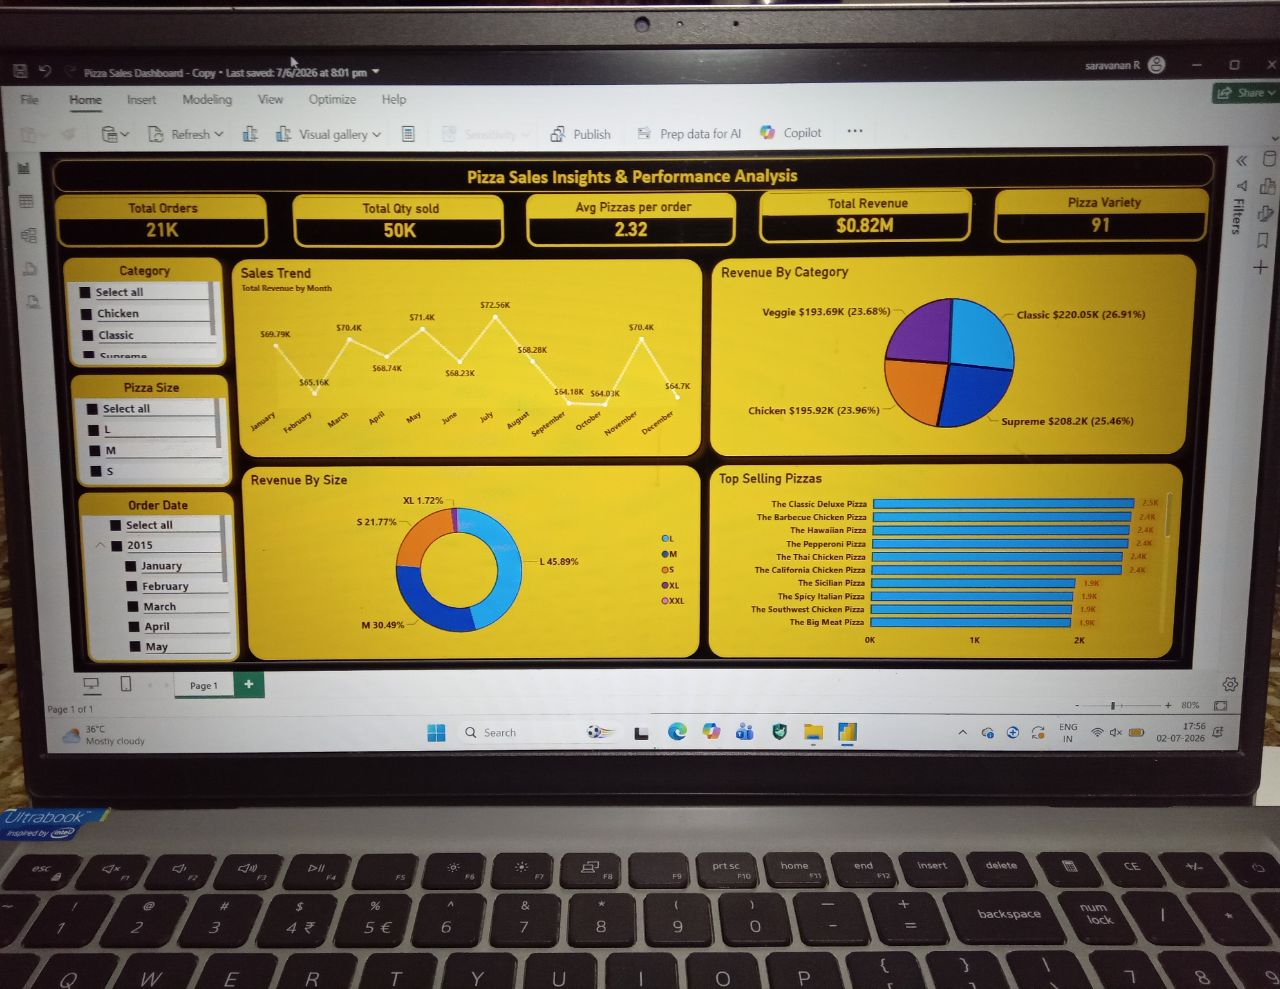

The dashboard page shown, as its layout file describes it:
{"tool":"powerbi","page":{"name":"Page 1","canvas":[1280,720],"ordinal":0},"visuals":[{"type":"textbox","title":"Pizza Sales Insights & Performance Analysis","box":[0,0,1280,47.5],"z":0},{"type":"card","title":"Total Orders","fields":{"Values":["order_details.Total Orders"]},"box":[0,46.9,271.6,79.6],"z":1000},{"type":"card","title":"Total Qty sold","fields":{"Values":["order_details.Total Quantity Sold"]},"box":[271.6,48.4,246,79.6],"z":2000},{"type":"card","title":"Total Revenue","fields":{"Values":["order_details.Total Revenue"]},"box":[776.5,49.8,260.3,78.2],"z":3000},{"type":"card","title":"Avg Pizzas per order","fields":{"Values":["order_details.Avg Items per Order"]},"box":[517.7,46.9,258.8,79.6],"z":4000},{"type":"card","title":"Pizza Variety","fields":{"Values":["order_details.Unique Pizzas Sold"]},"box":[1036.8,49.8,243.2,79.6],"z":5000},{"type":"slicer","title":"Category","fields":{"Values":["pizza_types.category"]},"box":[0,130,221.2,215],"z":6000},{"type":"slicer","title":"Pizza Size","fields":{"Values":["pizzas.size"]},"box":[0,344.8,220.7,174.6],"z":7000},{"type":"slicer","title":"Order Date","fields":{"Values":["orders.date.Variation.Date Hierarchy.Year","orders.date.Variation.Date Hierarchy.Month"]},"box":[0,519.4,223.6,200.5],"z":8000},{"type":"lineChart","title":"Sales Trend ","fields":{"Category":["orders.date.Variation.Date Hierarchy.Month"],"Y":["order_details.Total Revenue"]},"box":[223.8,130,552.5,302.5],"z":9000},{"type":"pieChart","title":"Revenue By Category","fields":{"Category":["pizza_types.category"],"Y":["order_details.Total Revenue"]},"box":[776.5,129.4,502.9,302.9],"z":10000},{"type":"donutChart","title":"Revenue By Size","fields":{"Category":["pizzas.size"],"Y":["order_details.Total Revenue"]},"box":[223.5,432.4,552.9,286.8],"z":11000},{"type":"clusteredBarChart","title":"Top Selling Pizzas","fields":{"Category":["pizza_types.name"],"Y":["order_details.Total Quantity Sold"]},"box":[777,432,502,287],"z":11001}]}

Visuals, with their boxes on the page's 1280x720 design canvas (x1, y1, x2, y2). These are canvas units, not pixel positions in the 1280x989 screenshot, which may show the page scaled, cropped or inside an application window:
"Pizza Sales Insights & Performance Analysis" textbox: 0:0:1280:48
"Total Orders" card: 0:47:272:126
"Total Qty sold" card: 272:48:518:128
"Total Revenue" card: 776:50:1037:128
"Avg Pizzas per order" card: 518:47:776:126
"Pizza Variety" card: 1037:50:1280:129
"Category" slicer: 0:130:221:345
"Pizza Size" slicer: 0:345:221:519
"Order Date" slicer: 0:519:224:720
"Sales Trend " lineChart: 224:130:776:432
"Revenue By Category" pieChart: 776:129:1279:432
"Revenue By Size" donutChart: 224:432:776:719
"Top Selling Pizzas" clusteredBarChart: 777:432:1279:719
